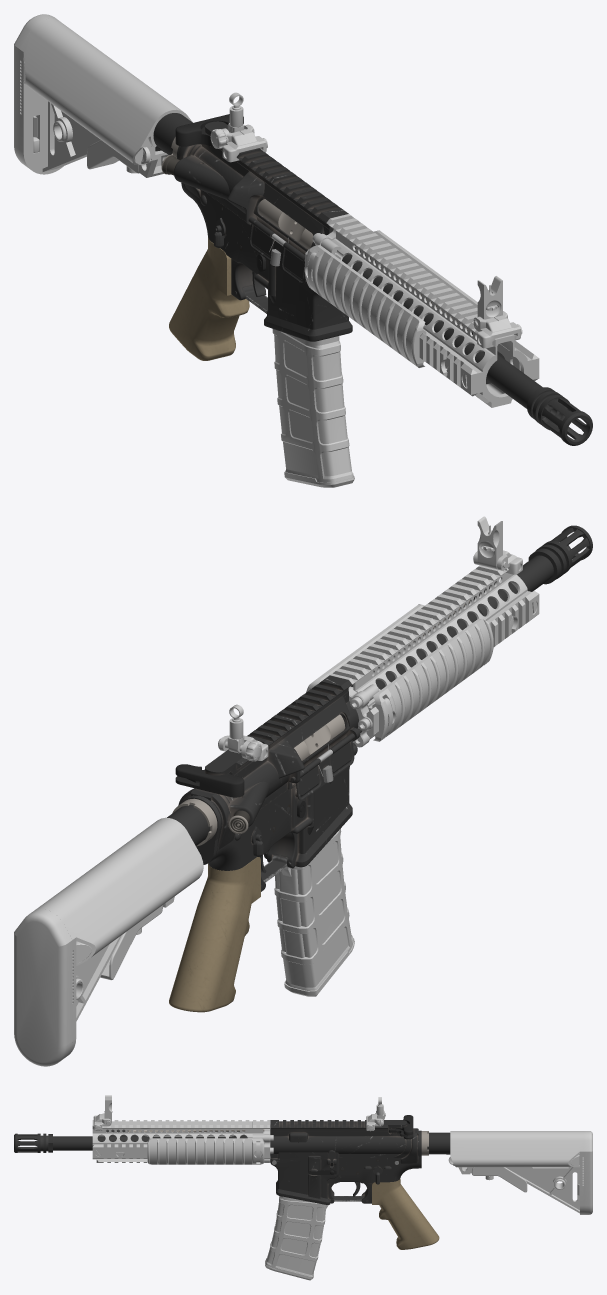
File: M4A1Fixed.fbx
3 renders of one model, top to bottom at view 1: azimuth 30°, elevation 25°; view 2: azimuth 150°, elevation 25°; view 3: azimuth 270°, elevation 25°, orthographic. The views are drawn at different scales.
Visible parts, largest first — view 1: body, stock, handgaurd 1, magazine, rail cover, front iron sight-up, rear iron sight-up, ejection port cover, bolt, charging handle; view 2: body, stock, handgaurd 1, magazine, rail cover, ejection port cover, front iron sight-up, charging handle, rear iron sight-up, handgaurd 2, bolt; view 3: body, stock, handgaurd 1, magazine, rail cover, front iron sight-up, rear iron sight-up, charging handle, handgaurd 2.
Part boxes in pixels (x1,y1,x2,y2): body: (153,113,592,445); stock: (14,14,192,177); handgaurd 1: (305,214,539,407); magazine: (272,329,354,487); rail cover: (304,230,477,367); front iron sight-up: (473,276,522,348); rear iron sight-up: (210,92,267,162); ejection port cover: (248,217,305,284); bolt: (258,199,313,249); charging handle: (175,114,243,146); body: (167,525,592,1012); stock: (14,817,203,1066); handgaurd 1: (330,565,539,738); magazine: (274,828,354,996); rail cover: (306,604,493,741); ejection port cover: (290,728,362,800); front iron sight-up: (473,516,522,574); charging handle: (175,764,244,797); rear iron sight-up: (218,704,268,761); handgaurd 2: (348,600,536,747); bolt: (294,714,344,760); body: (14,1120,450,1249); stock: (448,1131,592,1214); handgaurd 1: (92,1120,269,1162); magazine: (265,1196,328,1280); rail cover: (147,1130,264,1164); front iron sight-up: (93,1095,112,1130); rear iron sight-up: (366,1097,385,1131); charging handle: (389,1115,413,1139); handgaurd 2: (94,1125,273,1162).
Size of the model in its own units: 6.89 by 26.2 by 76.52.
